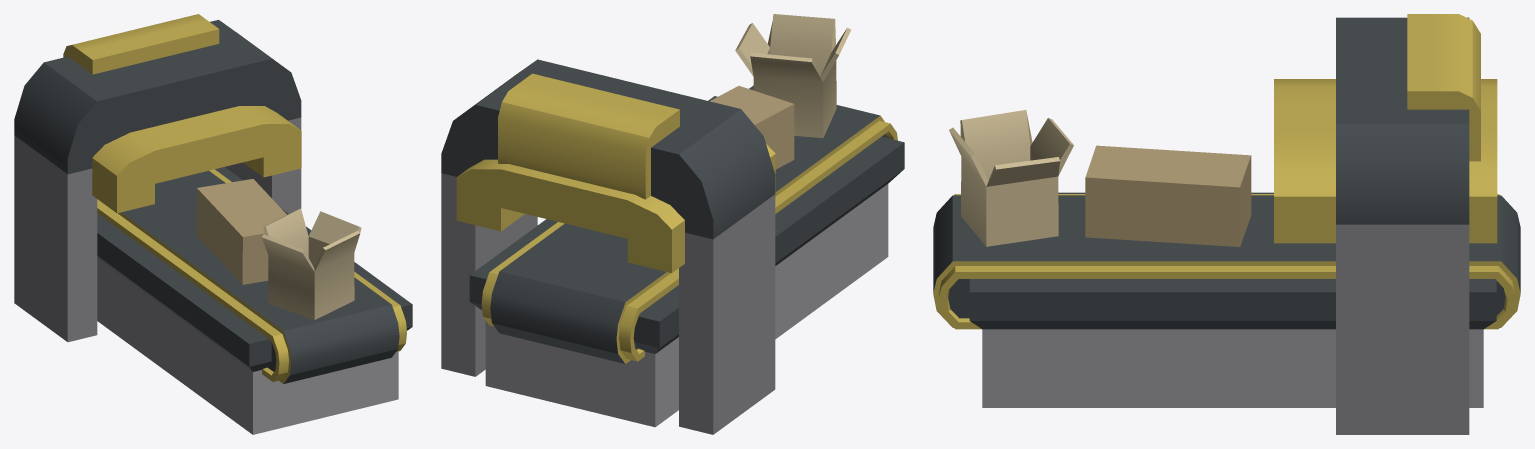
The model's file is conveer.fbx.
3 views of the same model, side by side, from view 1: azimuth 30°, elevation 25°; view 2: azimuth 150°, elevation 25°; view 3: azimuth 270°, elevation 25° (orthographic). The views are drawn at different scales.
Parts seen in each view (by area): view 1: conveer; view 2: conveer; view 3: conveer.
Part boxes in pixels (<box>): conveer: <box>14,14,412,434</box>; conveer: <box>441,14,904,434</box>; conveer: <box>933,14,1520,434</box>.
Bounding box in the file's own units: 101 × 102 × 175.
1 material, 1 textured.
